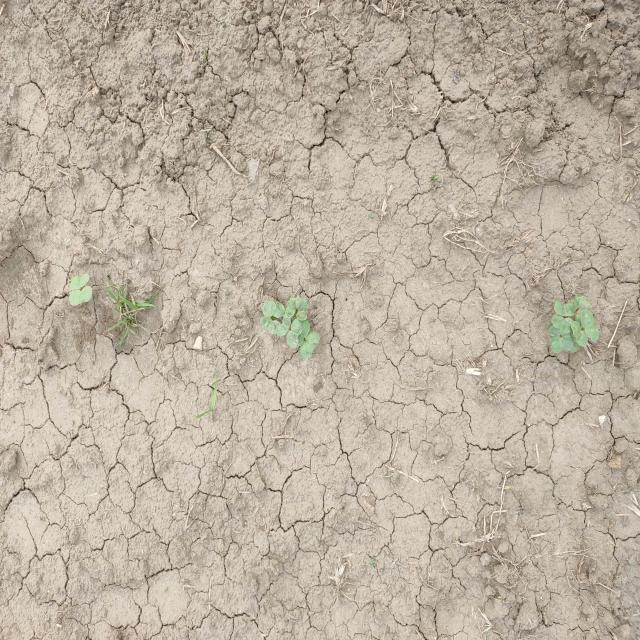seedling: (580, 309, 599, 342), (287, 318, 306, 349), (300, 332, 320, 360), (69, 286, 92, 306), (575, 297, 590, 326), (571, 321, 588, 346), (552, 314, 573, 334), (262, 301, 285, 318), (559, 329, 575, 352), (297, 319, 310, 347), (261, 316, 280, 335), (70, 273, 90, 291), (285, 294, 300, 318), (549, 326, 562, 353), (276, 314, 291, 337), (554, 301, 575, 316), (296, 297, 308, 321), (568, 294, 583, 312)
